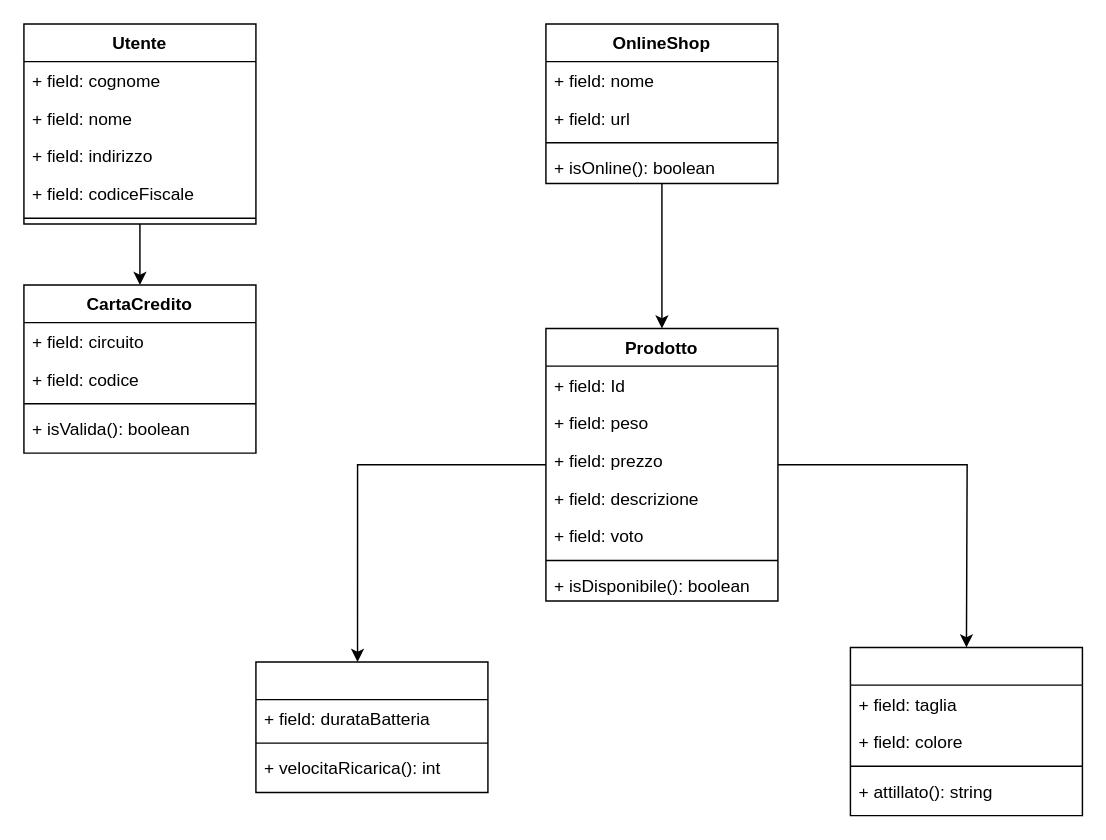
This 1106x840 diagram has some shape labels left out. The shapes that lost their labels are listed below. From the top down, each one's box as (x1, y1, x2, y2) in pixels, then its label:
(254, 660, 488, 792): Elettronica
(849, 646, 1082, 816): Moda
